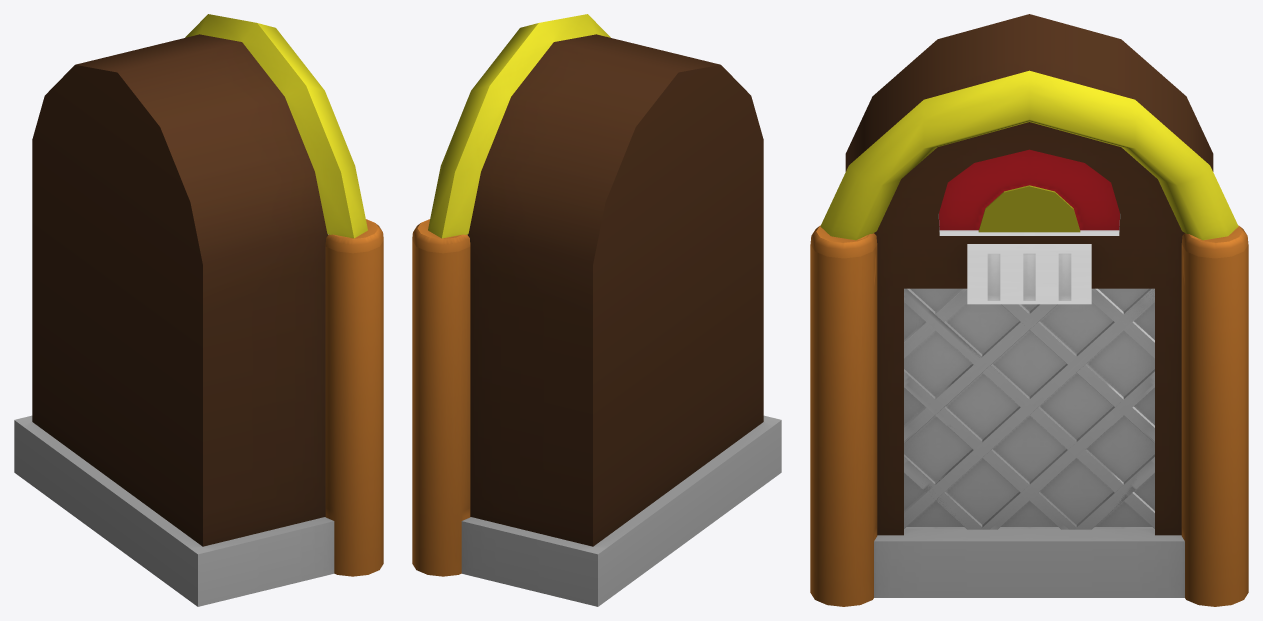
File: Jukebox_004.fbx
3 renders of one model, left to right at view 1: azimuth 30°, elevation 25°; view 2: azimuth 150°, elevation 25°; view 3: azimuth 270°, elevation 25°, orthographic. The views are drawn at different scales.
Parts seen in each view (by area): view 1: Jukebox_Base; view 2: Jukebox_Base; view 3: Jukebox_Base.
Boxes of the visible parts, x1,y1,x2,y2 form: Jukebox_Base: [14, 14, 383, 606]; Jukebox_Base: [412, 14, 781, 606]; Jukebox_Base: [810, 14, 1248, 606].
Size of the model in its own units: 26.28 by 60.54 by 46.46.
